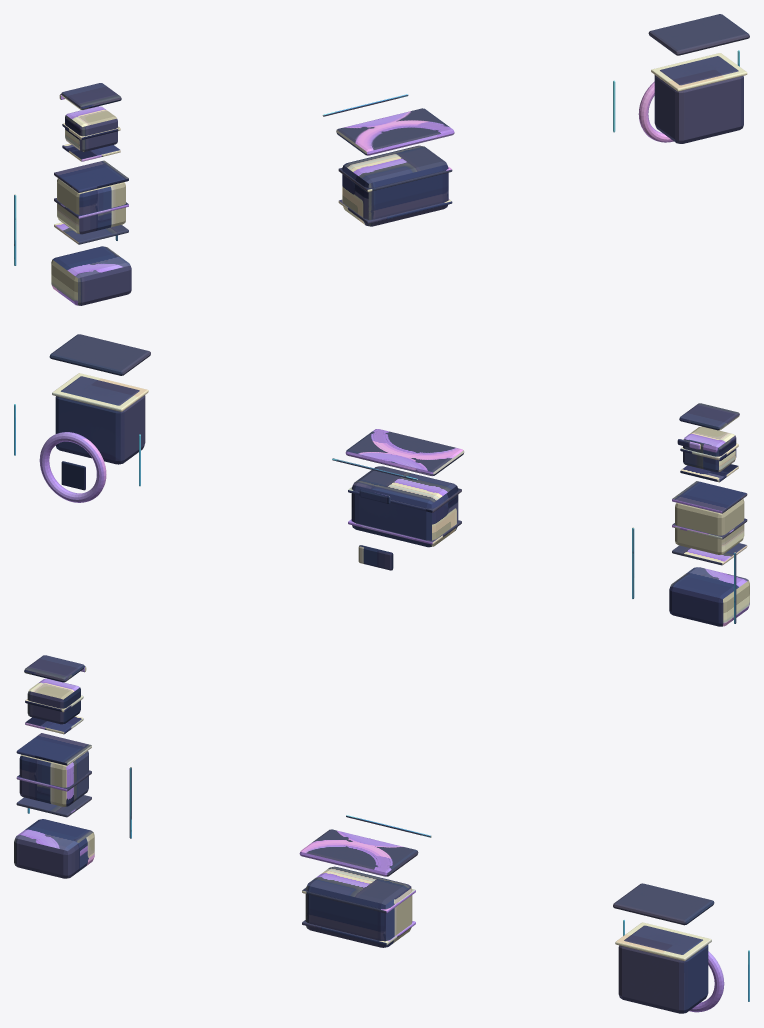
File: baked-buildings.glb
3 renders of one model, top to bottom at view 1: azimuth 30°, elevation 25°; view 2: azimuth 150°, elevation 25°; view 3: azimuth 330°, elevation 25°, orthographic.
Parts seen in each view (by area): view 1: bldg-tower, bldg-block, bldg-arcade; view 2: bldg-tower, bldg-arcade, bldg-block; view 3: bldg-tower, bldg-block, bldg-arcade.
Boxes of the visible parts, <box> form: bldg-tower: <box>14,83,131,305</box>; bldg-block: <box>322,94,454,226</box>; bldg-arcade: <box>613,14,749,143</box>; bldg-tower: <box>632,403,749,626</box>; bldg-arcade: <box>14,334,150,502</box>; bldg-block: <box>332,429,464,570</box>; bldg-tower: <box>14,655,131,878</box>; bldg-block: <box>299,815,431,947</box>; bldg-arcade: <box>613,883,749,1013</box>.
Size of the model in its own units: 190 by 54.2 by 21.2.
Materials: 1 (1 with a texture image).
